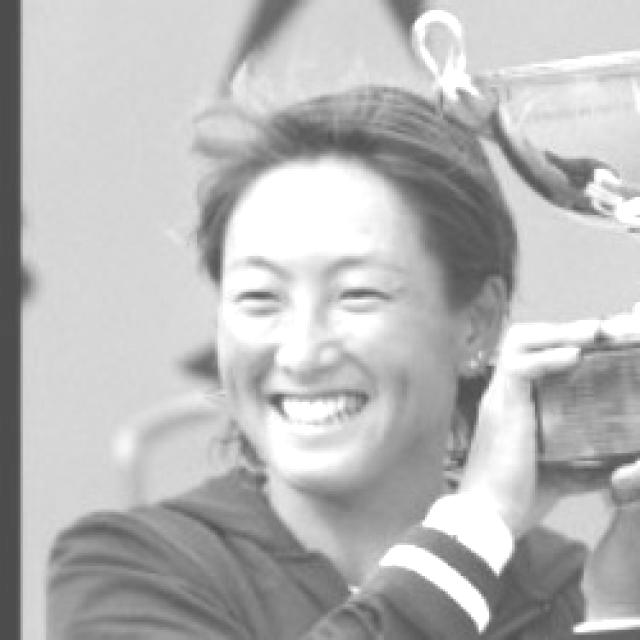real: (222, 156, 450, 496), (232, 276, 396, 314)
